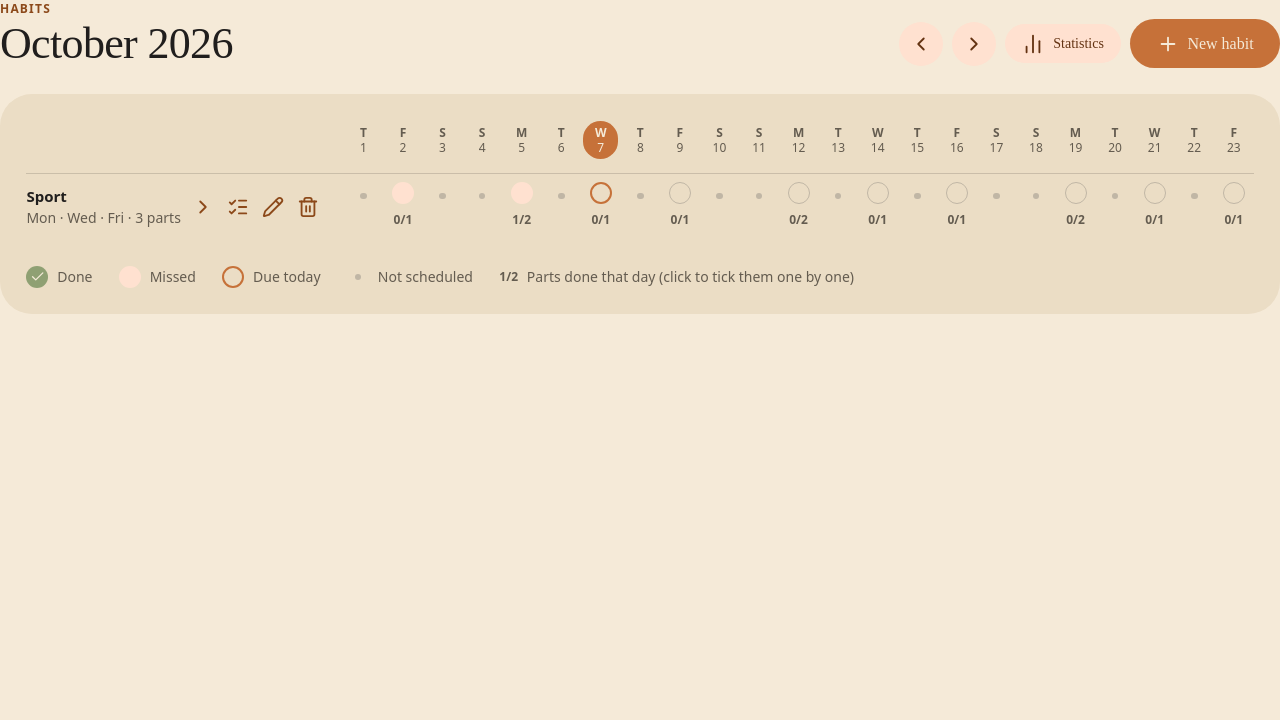
Test: ticking the parts of a day › lists the parts due that day, with the done ones ticked
This screenshot has width=1280, height=720.
Check: the table is shown, box [26,121,1254,240]
Step 1. Click the button "1/2" → click(522, 220), box [504,209,539,231]
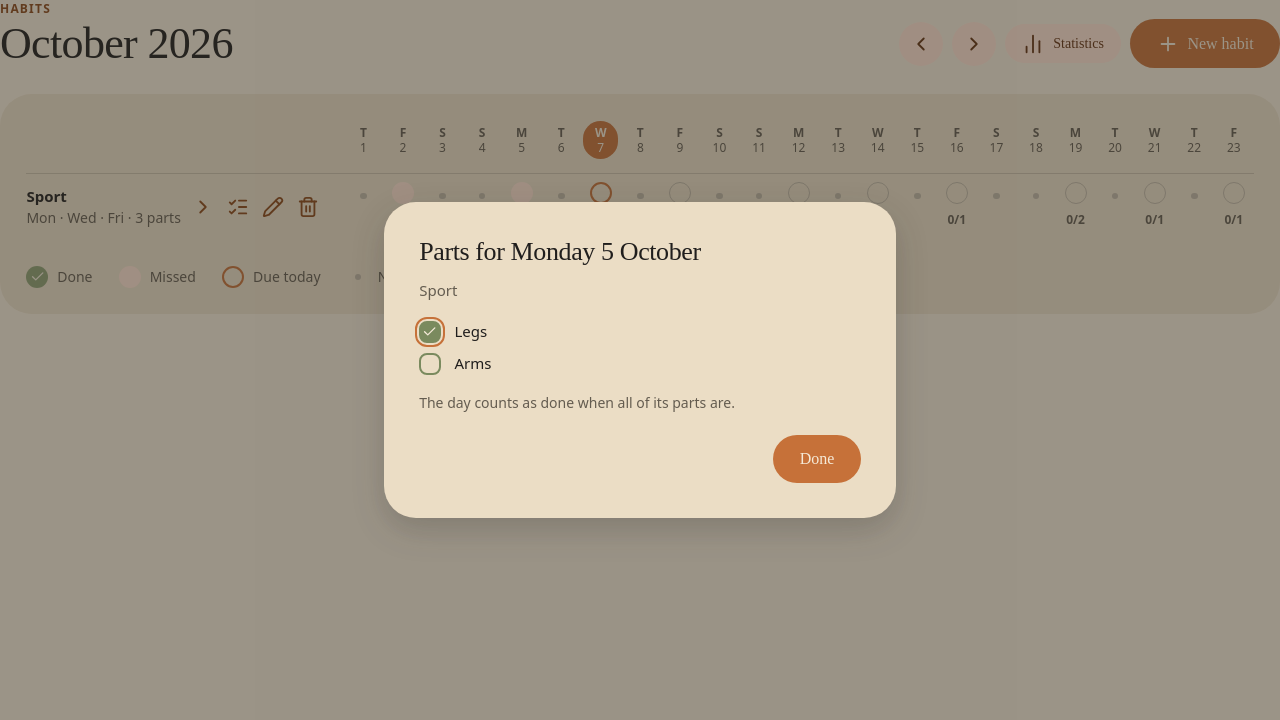
Check: the text "Sport" is shown, box [419,280,457,300]
Check: the checkbox named "Sport: Legs" is checked, box [419,321,441,343]
Check: the checkbox named "Sport: Arms" is not checked, box [419,353,441,375]
